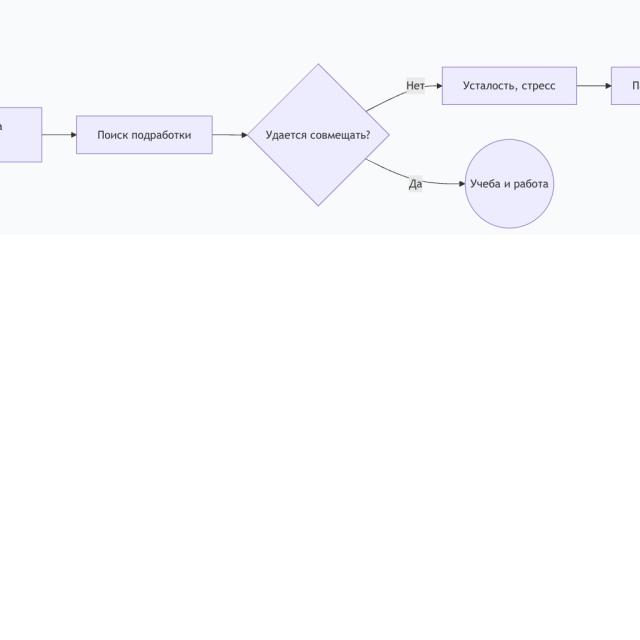arrow: (365, 159, 409, 180), (367, 90, 407, 112), (43, 130, 76, 138), (577, 83, 611, 88), (213, 132, 247, 137)
circle: (465, 140, 553, 228)
diamond: (249, 65, 389, 207)
rectangle: (76, 116, 212, 154), (442, 67, 577, 104)
text_region: (404, 76, 426, 95), (405, 175, 424, 193)
